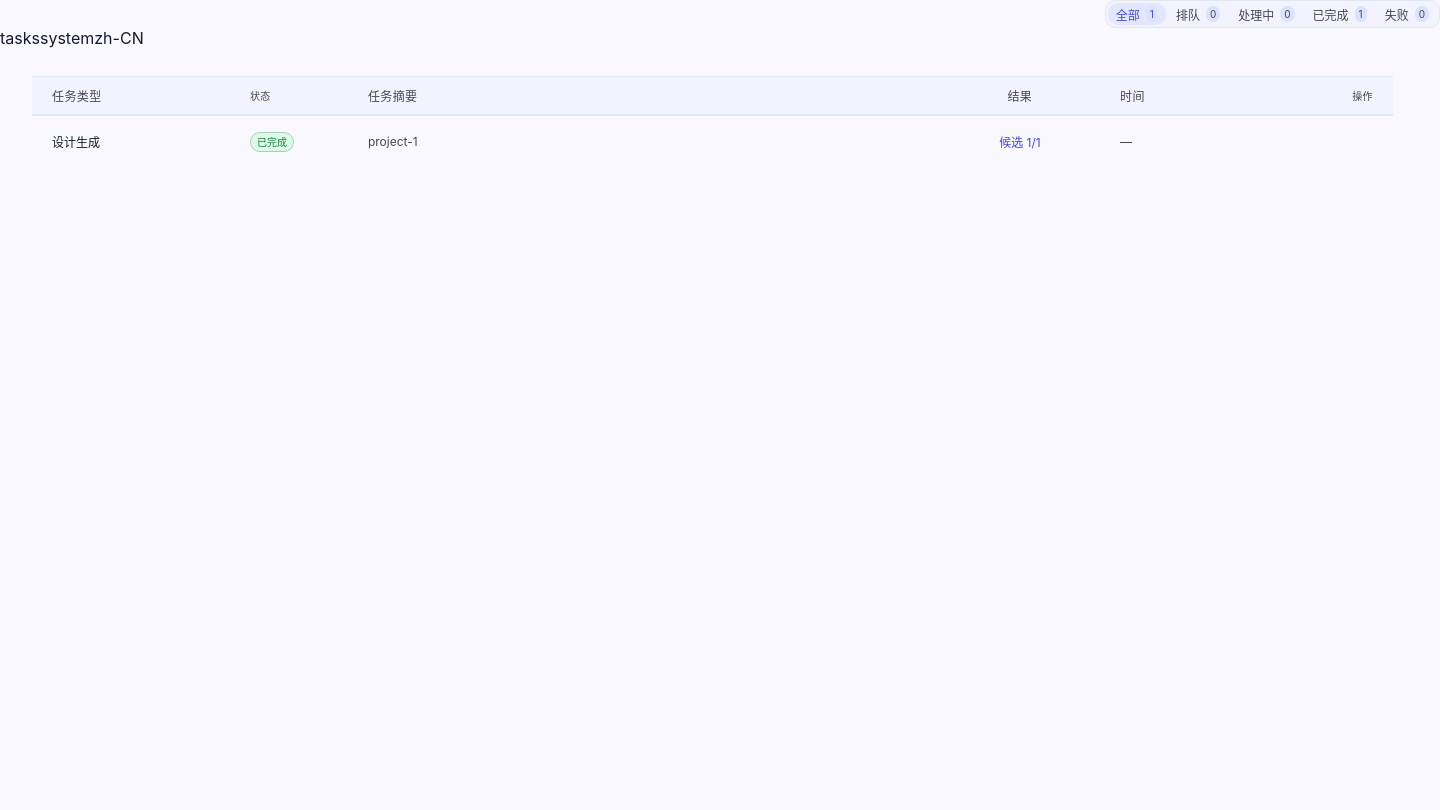
Test: shows candidate progress as one result button without inline details
This screenshot has width=1440, height=810.
Click the button "候选 1/1". click: (1020, 141)
box: [993,128,1047,154]
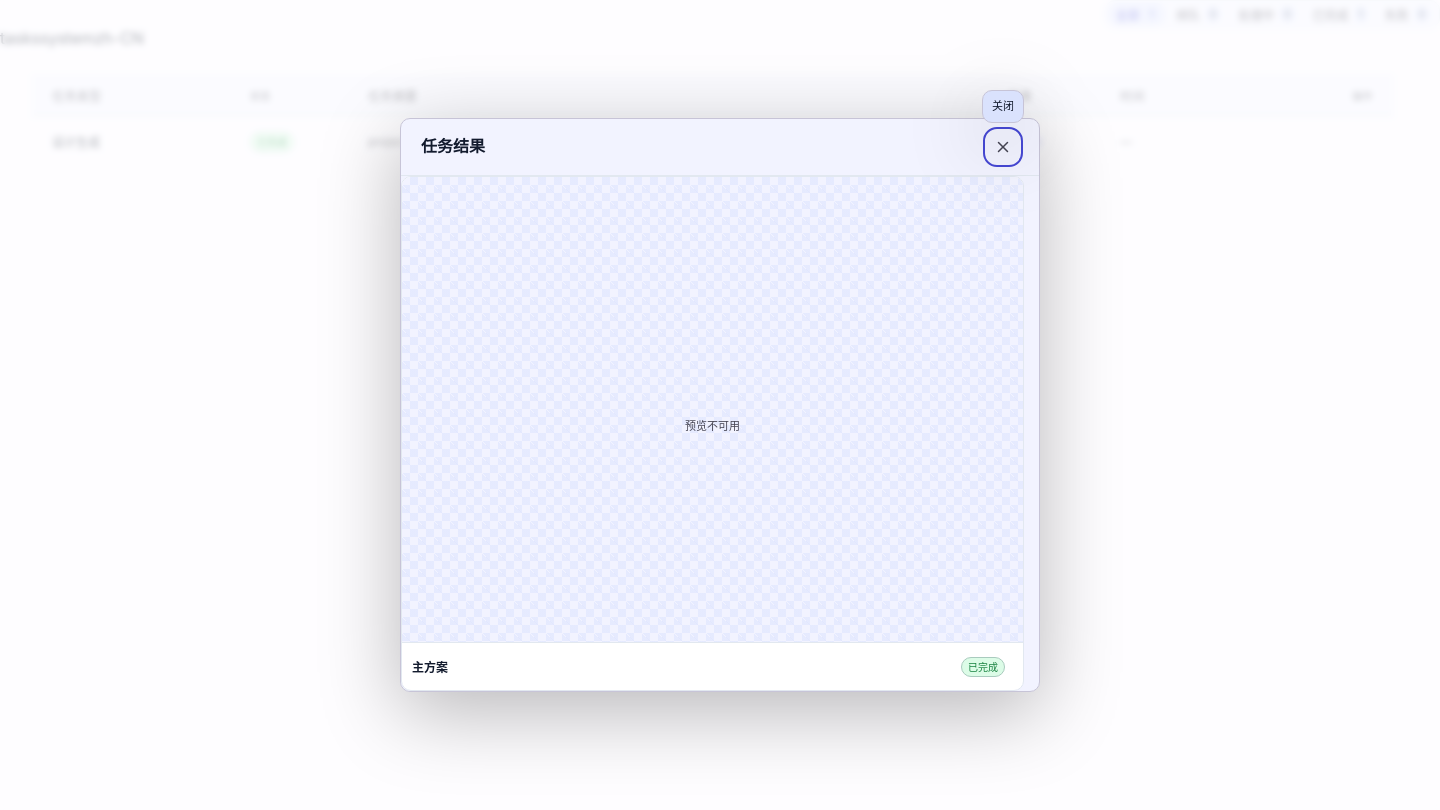
Expected: the dialog "任务结果" is shown, [400,118,1040,692]
